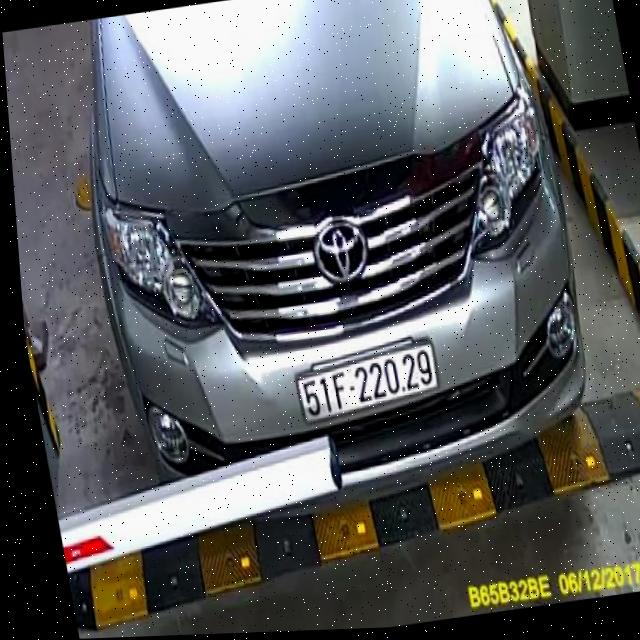car: (50, 0, 617, 525)
plate: (292, 344, 449, 428)
